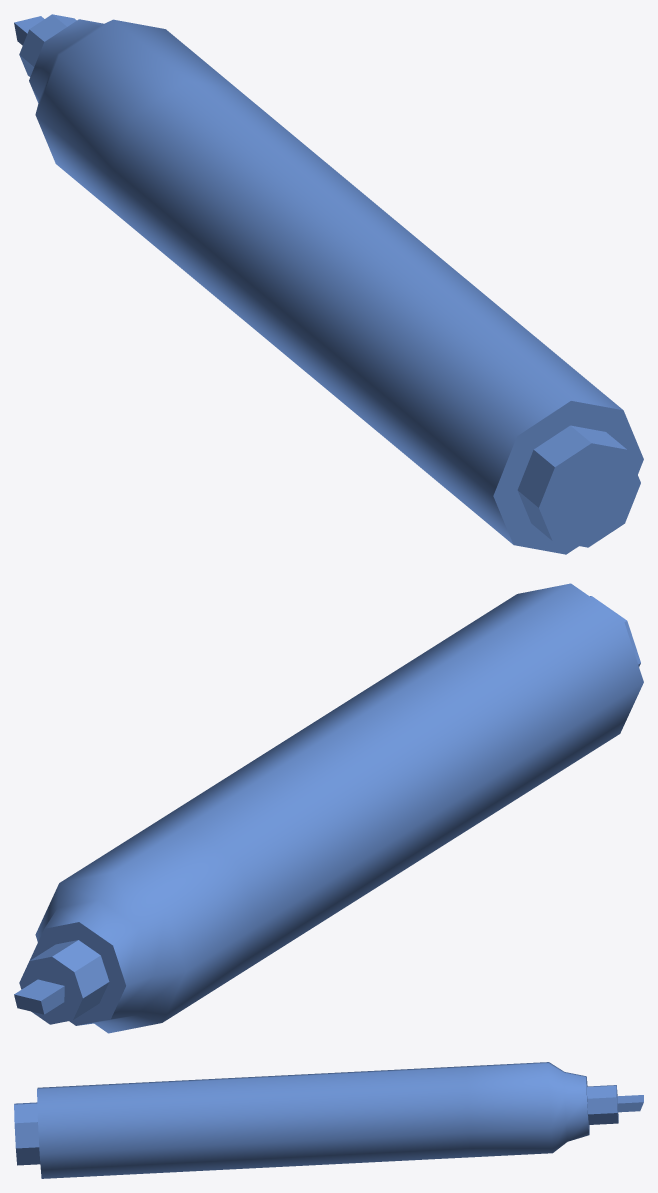
Rendered from 09_marker.glb.
3 views of the same model, one above another, from view 1: azimuth 30°, elevation 25°; view 2: azimuth 150°, elevation 25°; view 3: azimuth 270°, elevation 25° (orthographic). The views are drawn at different scales.
Parts seen in each view (by area): view 1: Marker; view 2: Marker; view 3: Marker.
Part boxes in pixels (bbox=[...]): Marker: bbox=[14, 14, 643, 554]; Marker: bbox=[14, 583, 643, 1033]; Marker: bbox=[14, 1062, 643, 1178].
Size of the model in its own units: 0.018 by 0.0232 by 0.1168.
